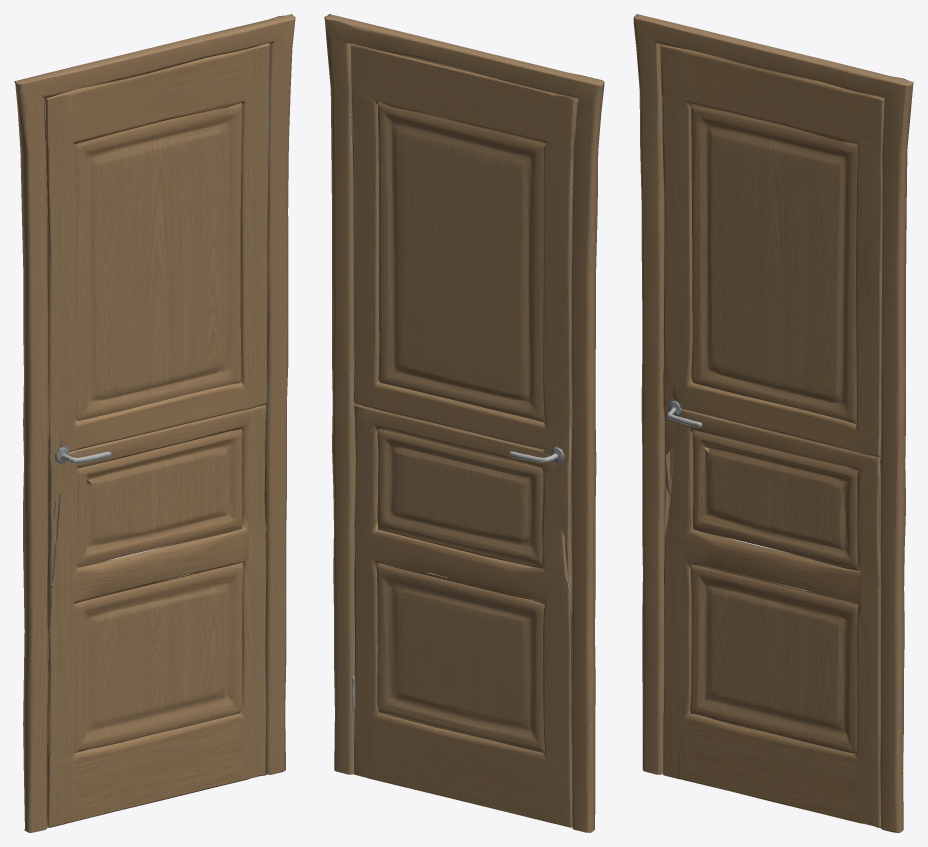
File: Meshy_AI_bathroom_door_0904015603_texture.glb
3 views of the same model, side by side, from view 1: azimuth 30°, elevation 25°; view 2: azimuth 150°, elevation 25°; view 3: azimuth 330°, elevation 25° (orthographic).
Visible parts, largest first — view 1: mesh_node; view 2: mesh_node; view 3: mesh_node.
Boxes of the visible parts, bbox=[...] form: mesh_node: bbox=[14, 14, 295, 832]; mesh_node: bbox=[324, 14, 604, 832]; mesh_node: bbox=[633, 14, 913, 832].
Bounding box in the file's own units: 0.3867 × 1 × 0.0713.
1 material, 1 textured.
